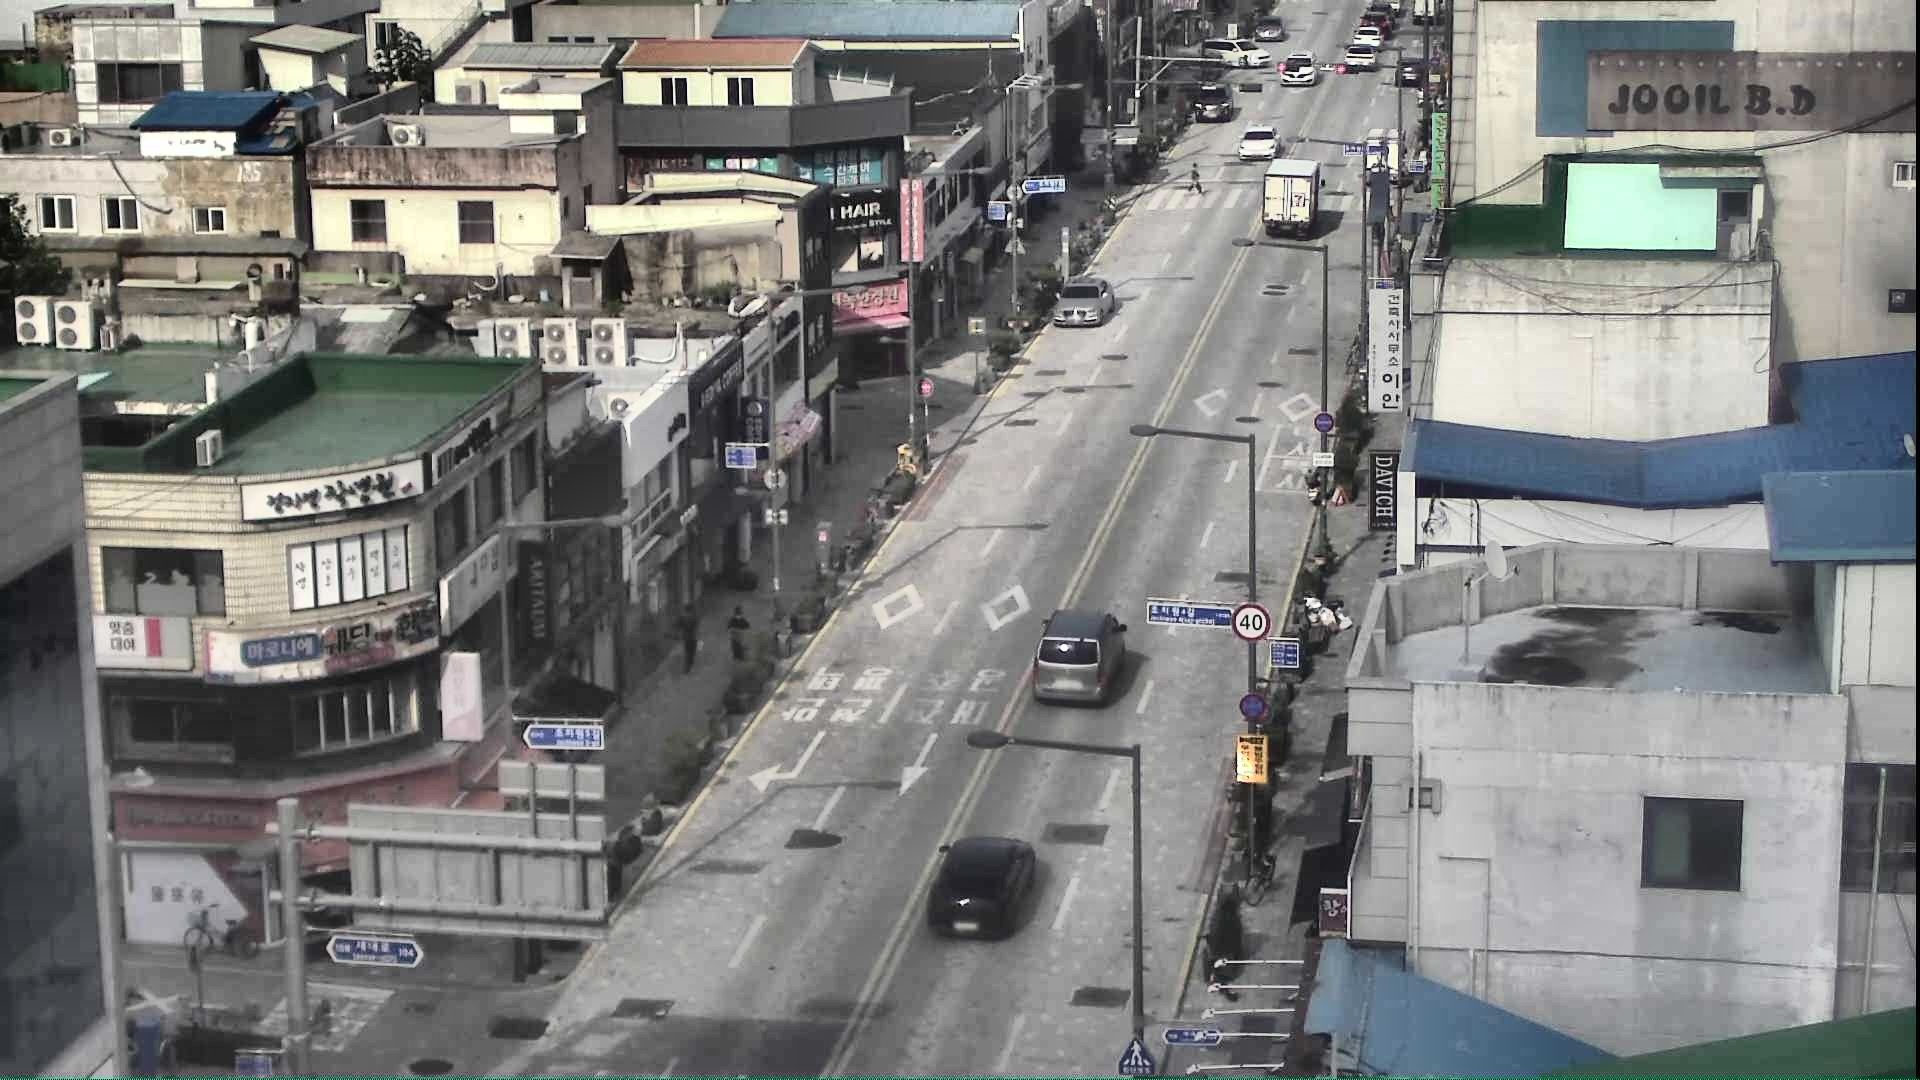crosswalk: (1185, 161, 1204, 198)
sidewalk: (674, 603, 703, 678), (720, 603, 753, 662)
